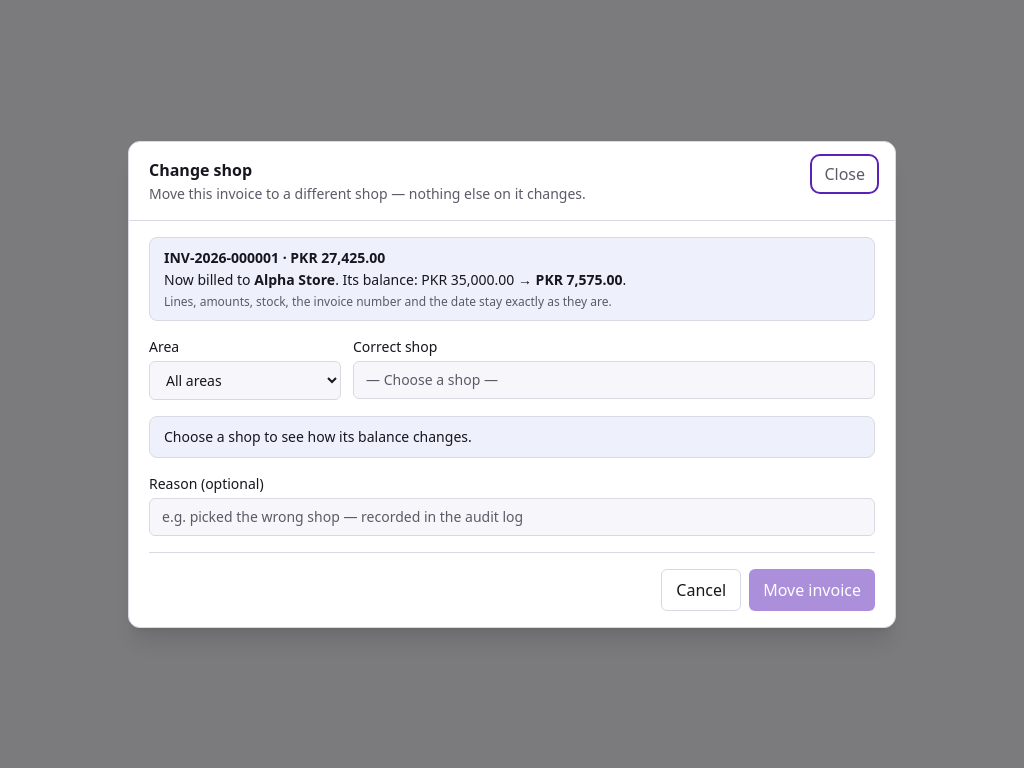
Test: Change shop › Move sends the chosen shop and the reason; the server's refusal is shown verbatim and nothing closes
Click the dropdown named "Correct shop".
click(614, 380)  # box [353, 360, 875, 398]
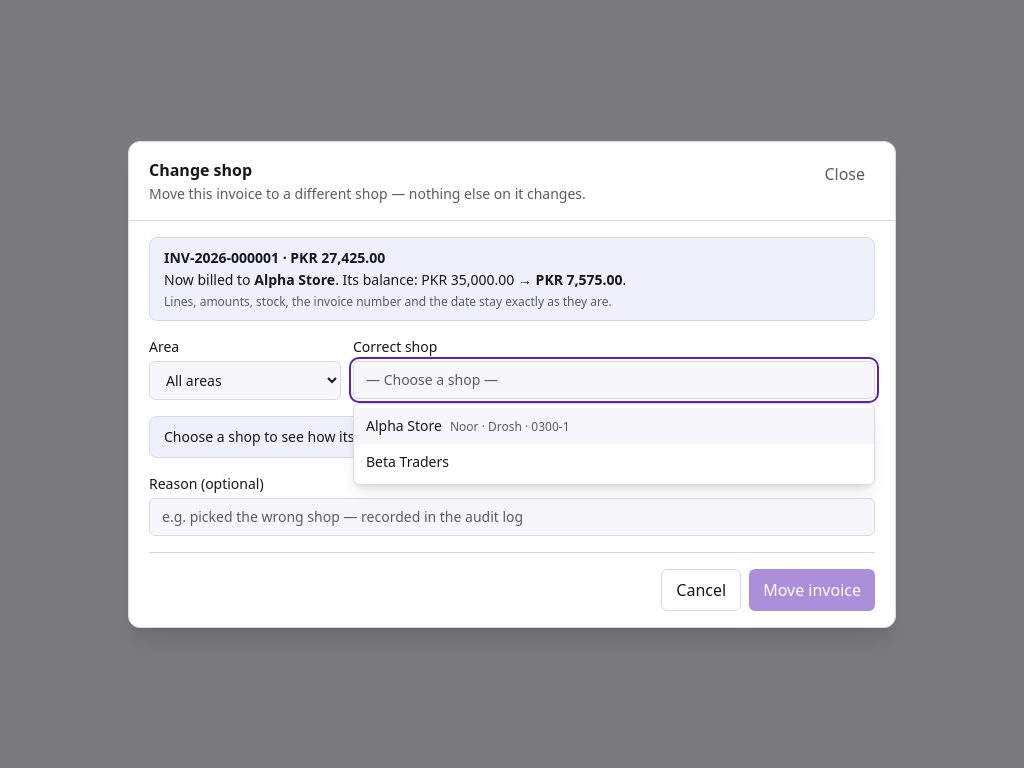
Click the option "Beta Traders".
click(408, 461)  # box [366, 452, 449, 470]
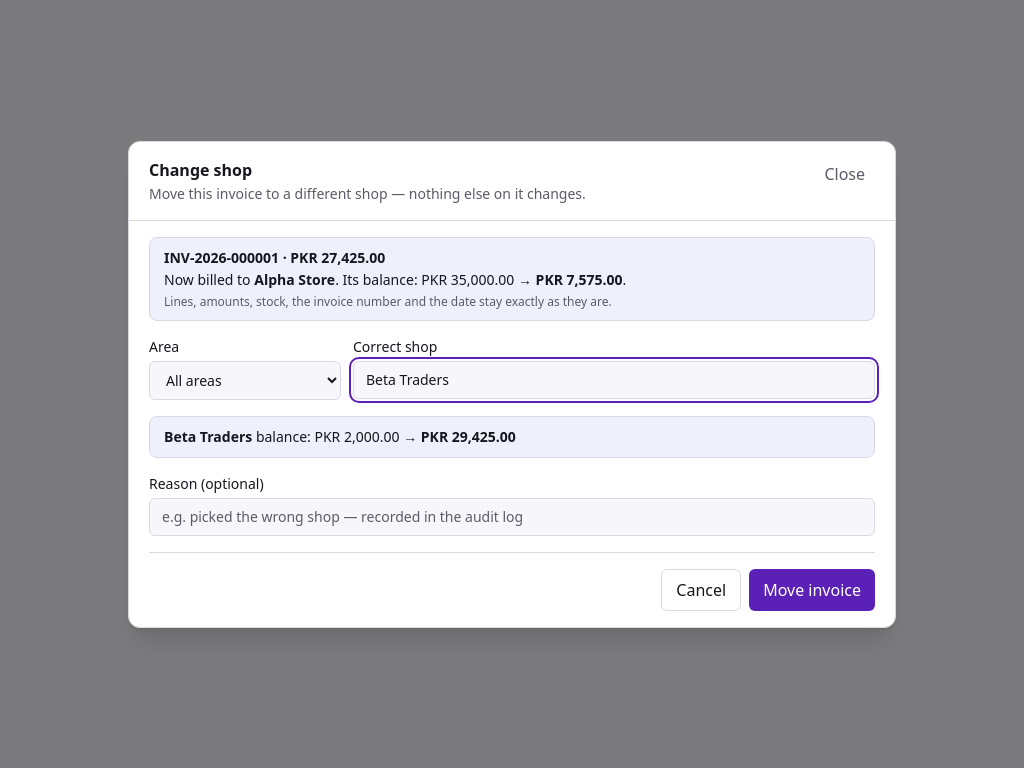
Type "picked the wrong shop" into the field labelled "Reason (optional)".
click(512, 516); type("picked the wrong shop")  # box [149, 498, 875, 536]
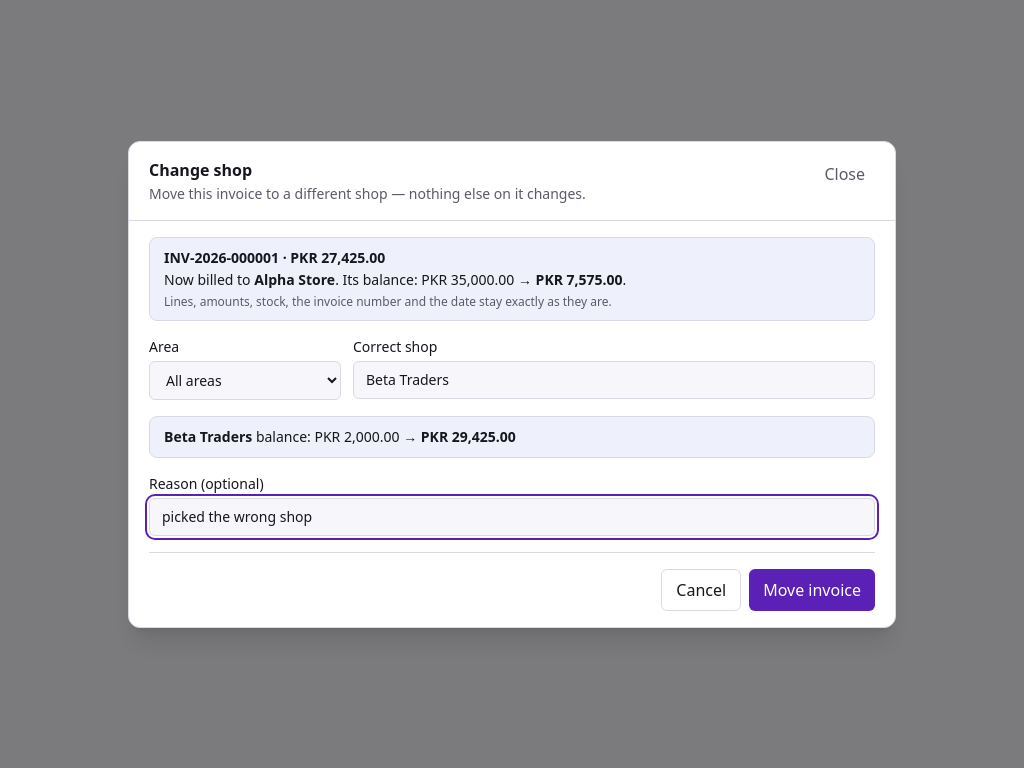
Click the button "Move invoice".
click(812, 590)  # box [749, 568, 875, 610]
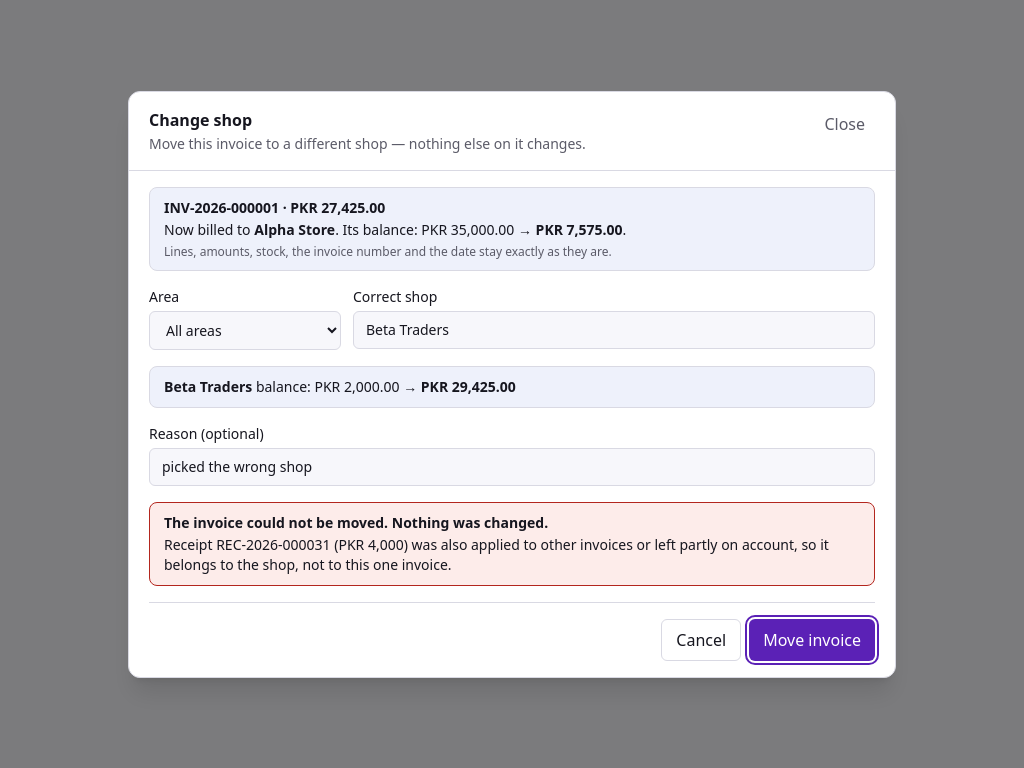
Expected: the text "Receipt REC-2026-000031 (PKR 4,000) was also applied to other invoices or left partly on account, so it belongs to the s" is shown, [164, 534, 829, 574]
